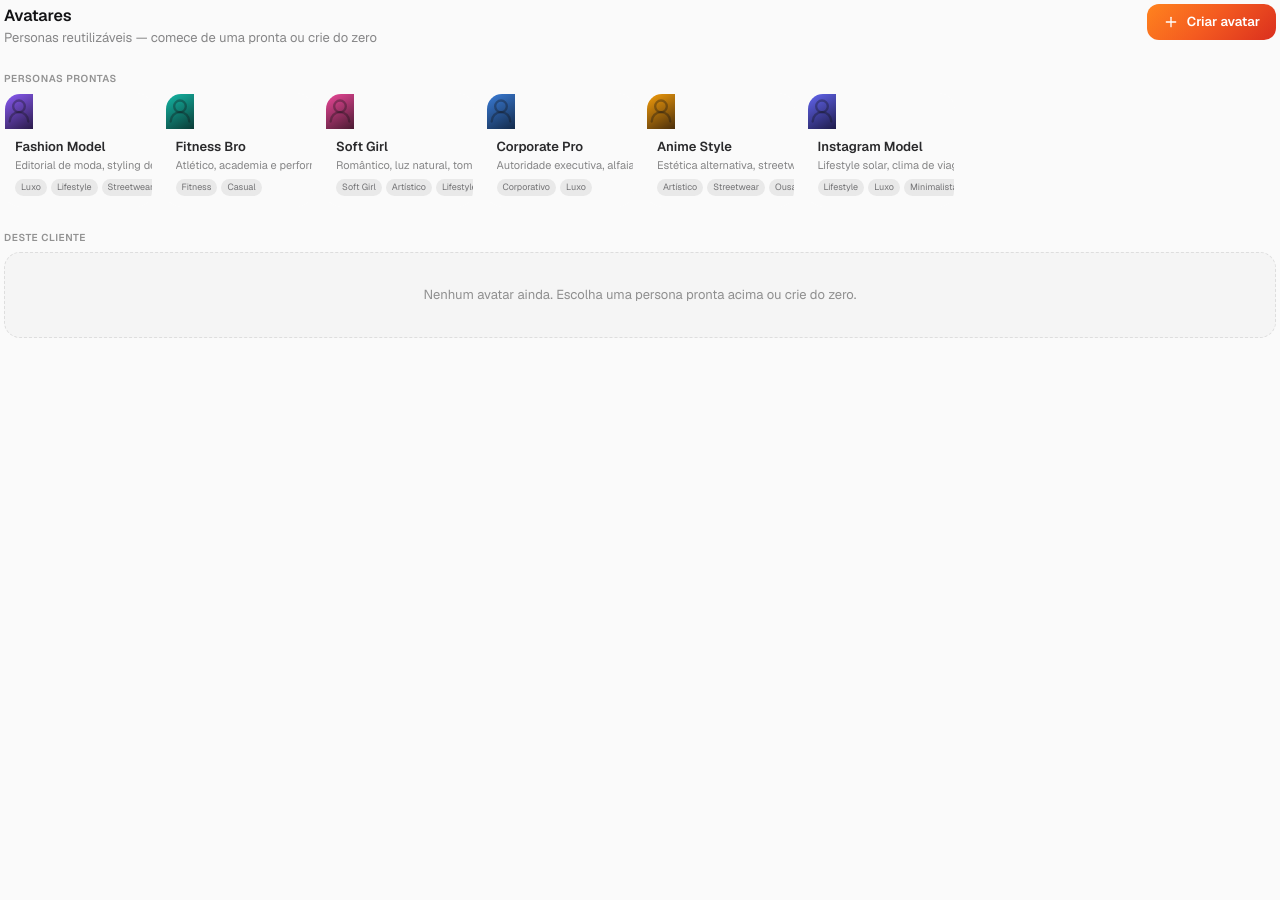
Test: AvatarStudio › clicar num preset abre o customizador já preenchido
Click the button with aria-label "Personalizar Fitness Bro" at coordinates (239, 150), box [164,93,313,207]
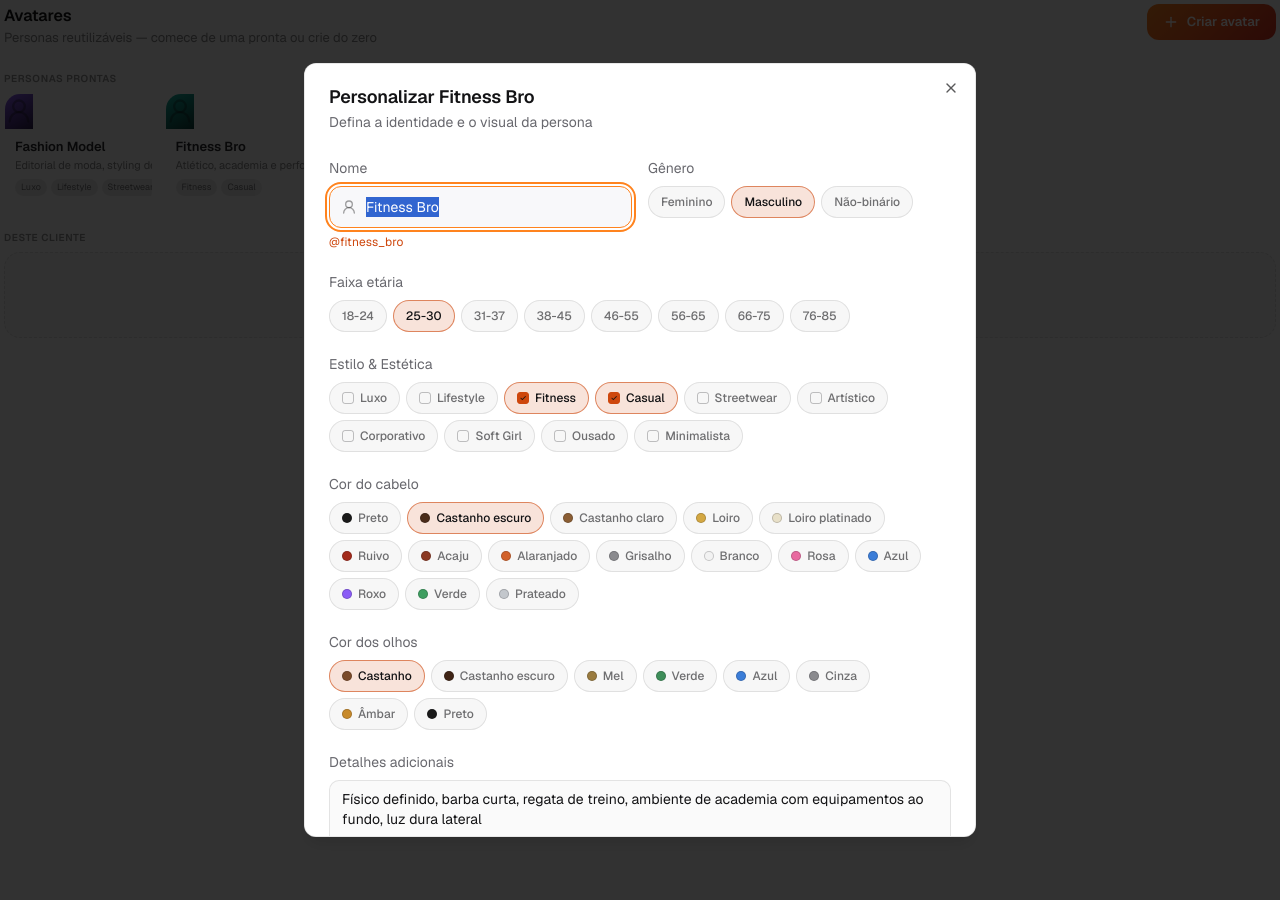
Check: the dialog is shown, box [304,63,976,837]
Check: the field showing "Fitness Bro" is shown, box [329,186,632,228]
